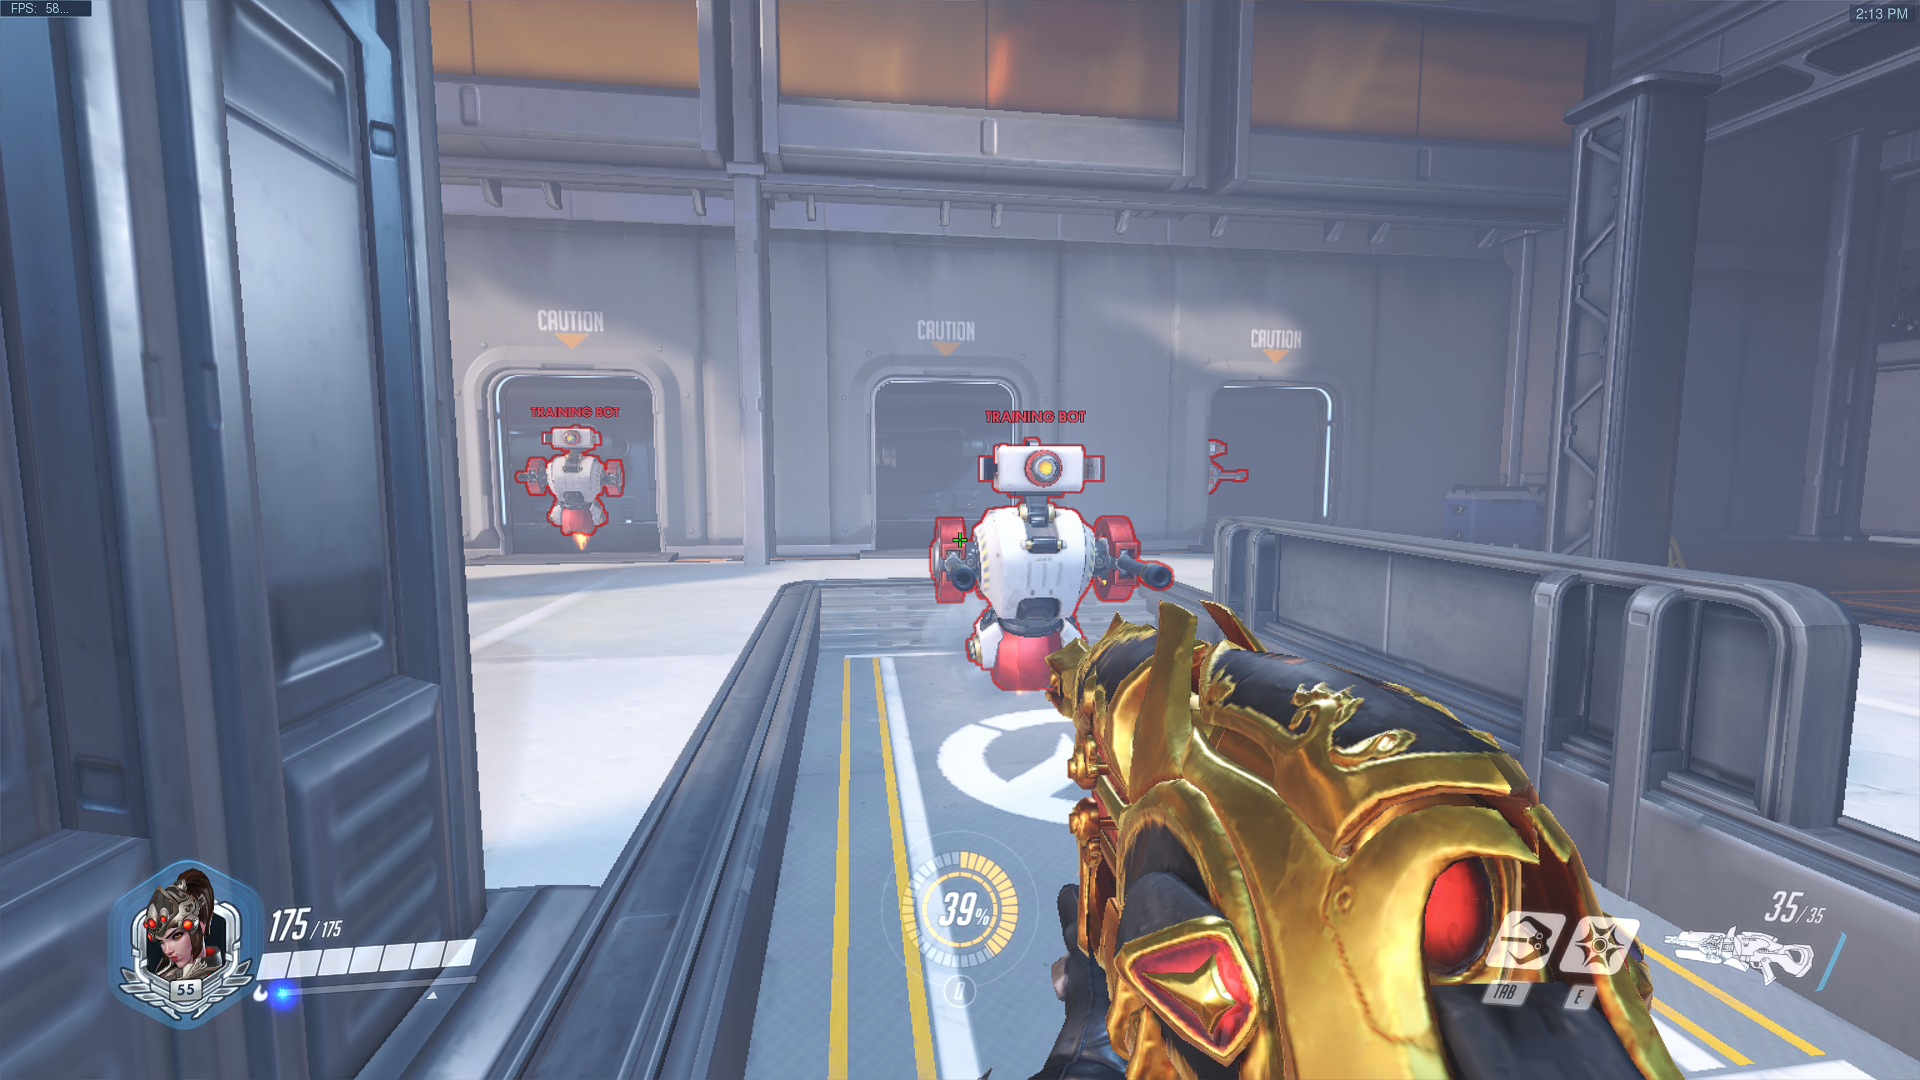head: (971, 436, 1098, 499), (542, 419, 593, 449)
